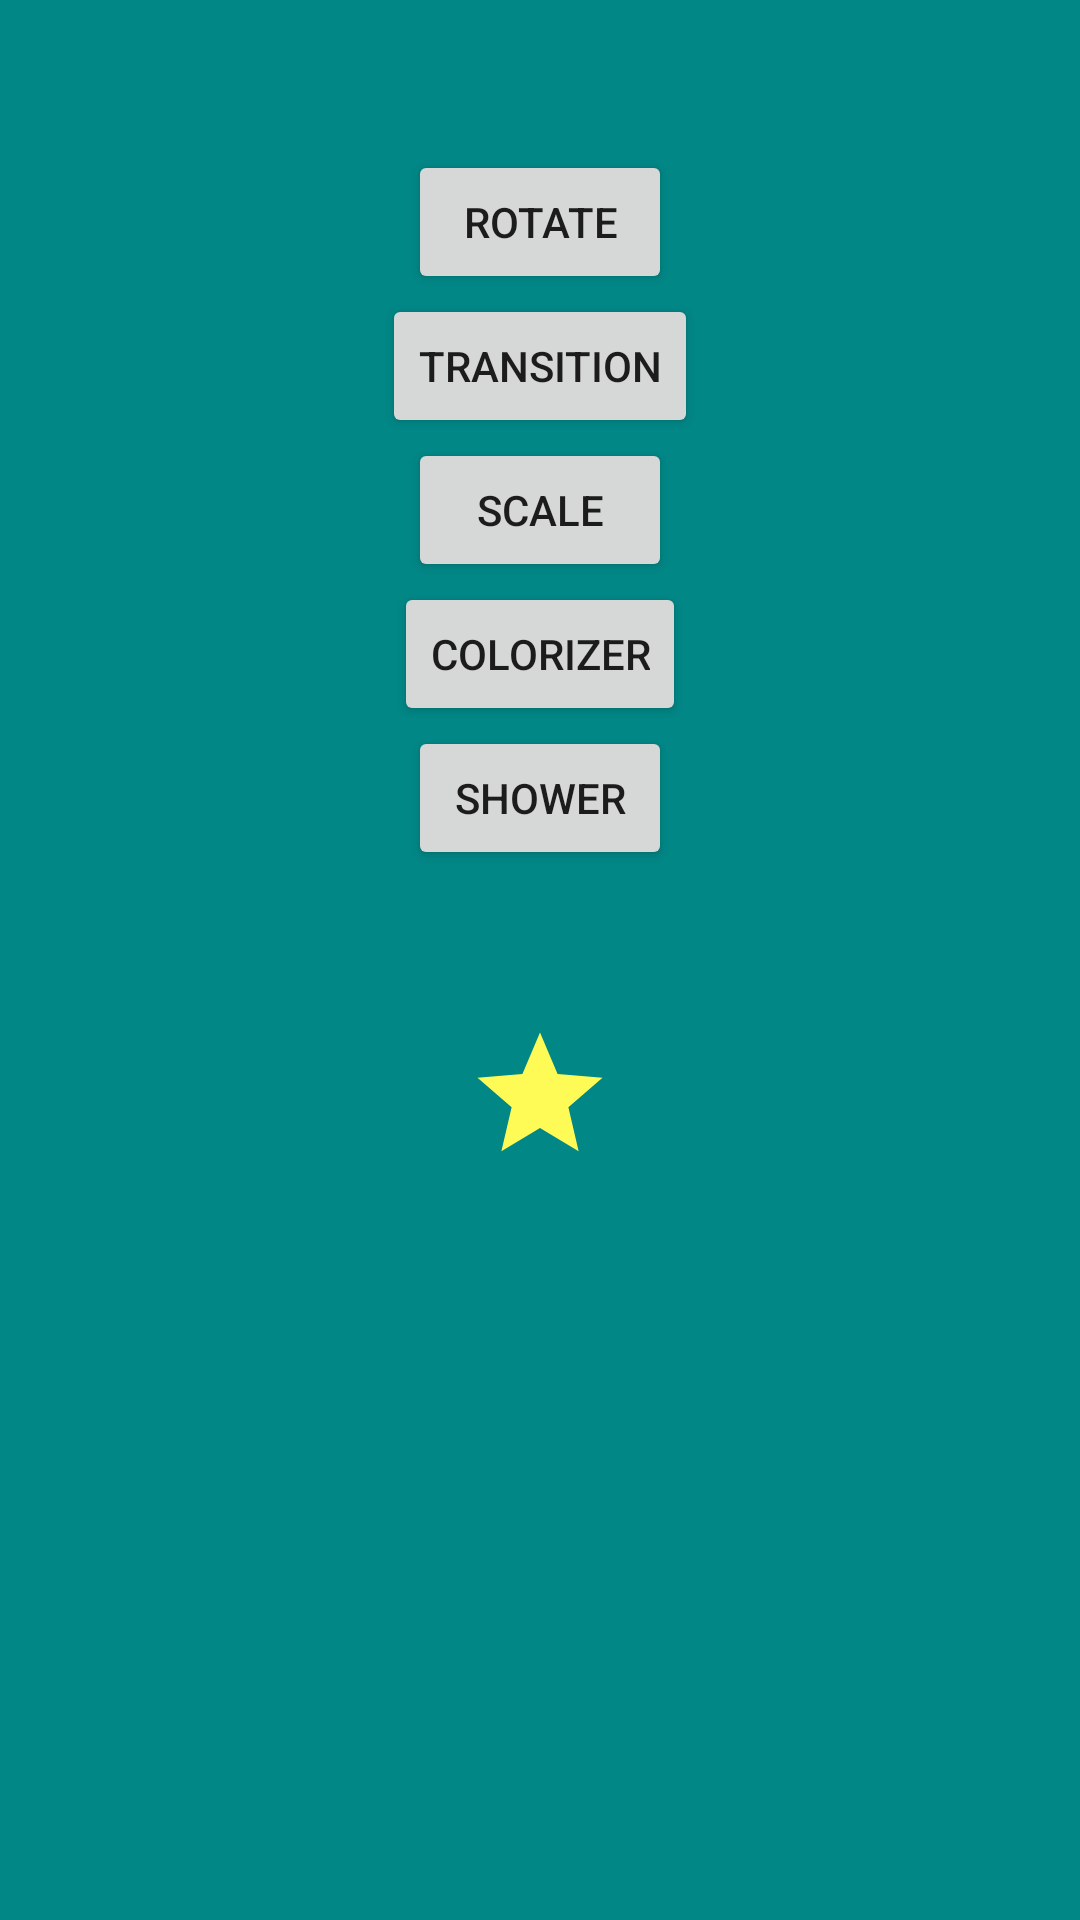

Where to tap for icons on this 1080w x 1920h app screen, as (x,y):
star: (540,1092)
